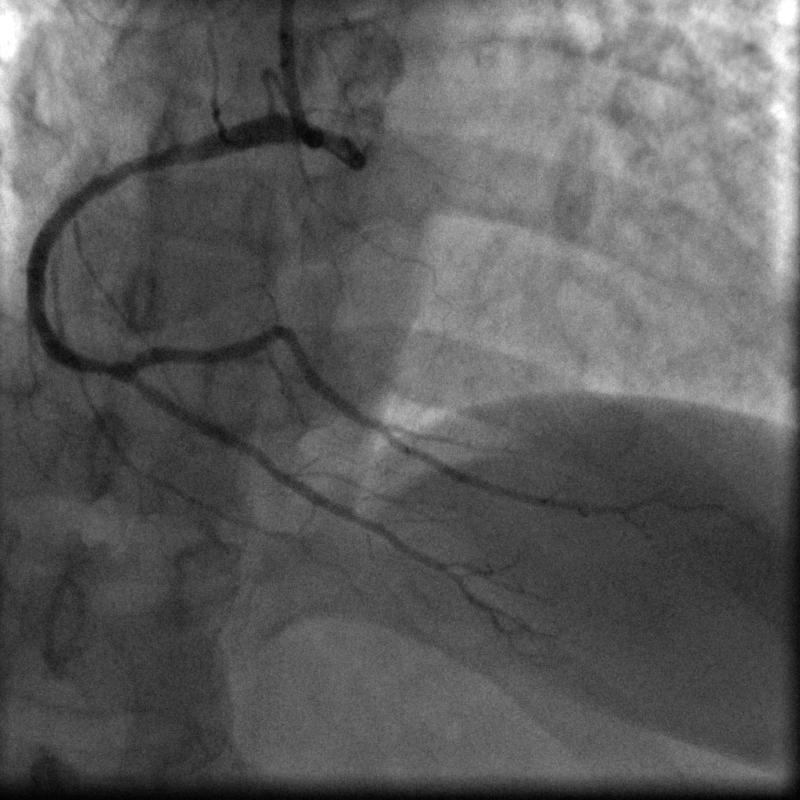Stenosis: (91, 355, 122, 380)
